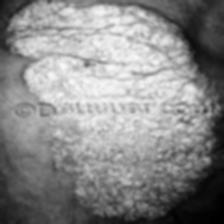Non-Cancerous Skin Condition: (0, 0, 221, 103), (33, 120, 224, 224)
